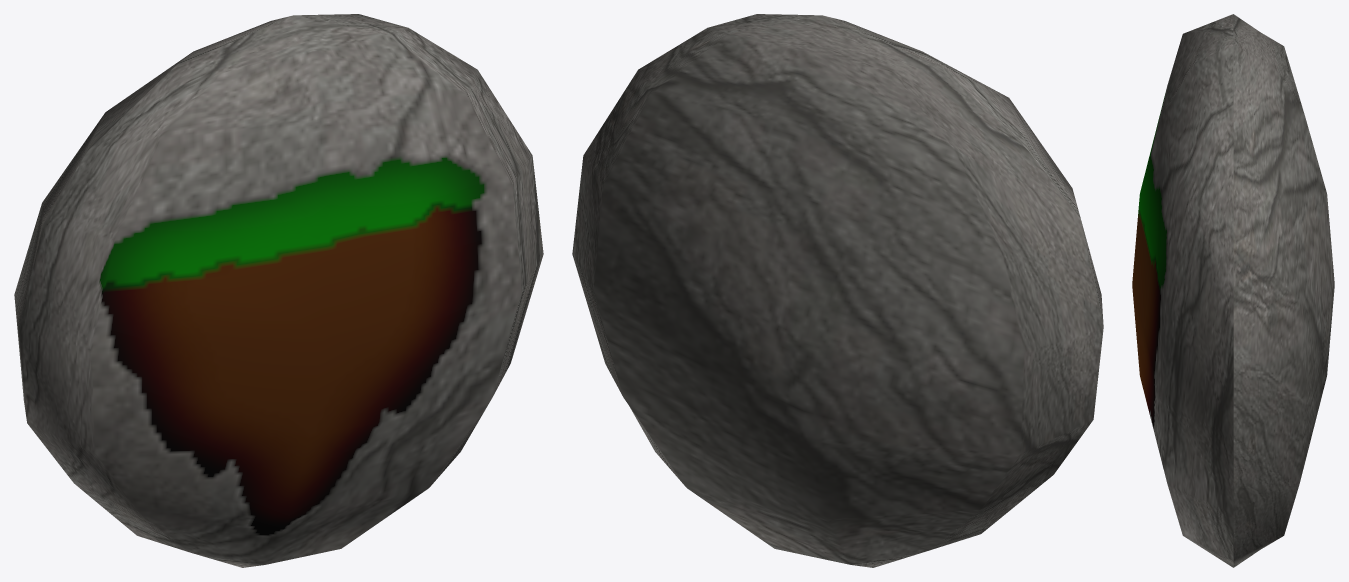
The model's file is TV_Rune.fbx.
3 renders of one model, left to right at view 1: azimuth 30°, elevation 25°; view 2: azimuth 150°, elevation 25°; view 3: azimuth 270°, elevation 25°, orthographic. The views are drawn at different scales.
Parts seen in each view (by area): view 1: Sphere; view 2: Sphere; view 3: Sphere.
Boxes of the visible parts, x1,y1,x2,y2 form: Sphere: [14, 14, 543, 567]; Sphere: [572, 14, 1103, 567]; Sphere: [1132, 14, 1334, 567].
Bounding box in the file's own units: 44.65 × 43.64 × 16.13.
